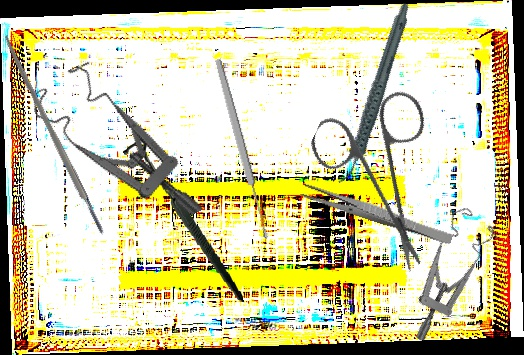Dressing Forceps: (299, 181, 455, 247)
Handpiece: (302, 0, 445, 187)
Hook Surgical: (122, 131, 244, 313)
Iris Scissors: (278, 64, 485, 275)
Scalpel Handle: (1, 34, 106, 237)
Speculum: (24, 43, 204, 258), (370, 199, 519, 344)
Surgical Spoon: (212, 56, 272, 242)
